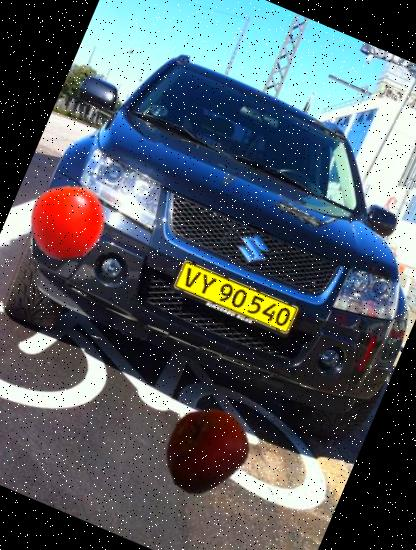Nectarine: (146, 392, 264, 510)
Tomato: (17, 173, 117, 273)
